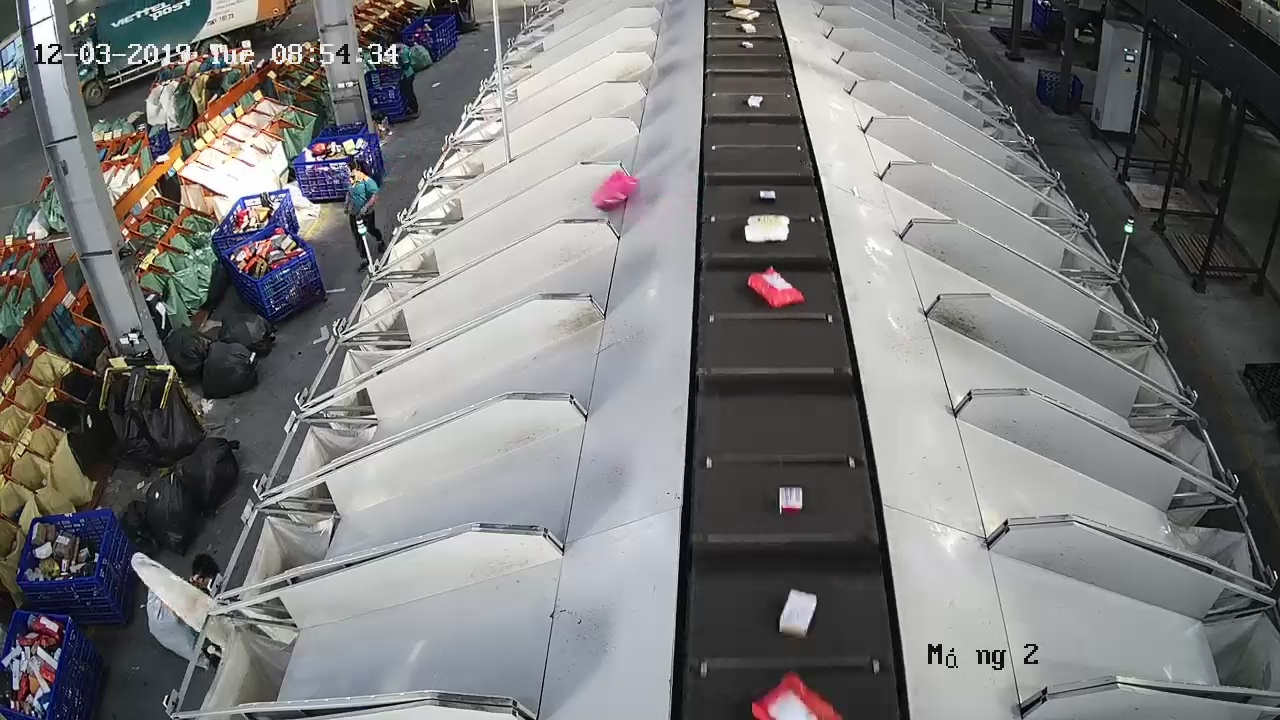parcel: (746, 265, 808, 311), (777, 586, 819, 641), (590, 169, 642, 213), (743, 213, 792, 245), (777, 484, 805, 516), (757, 189, 778, 203)
